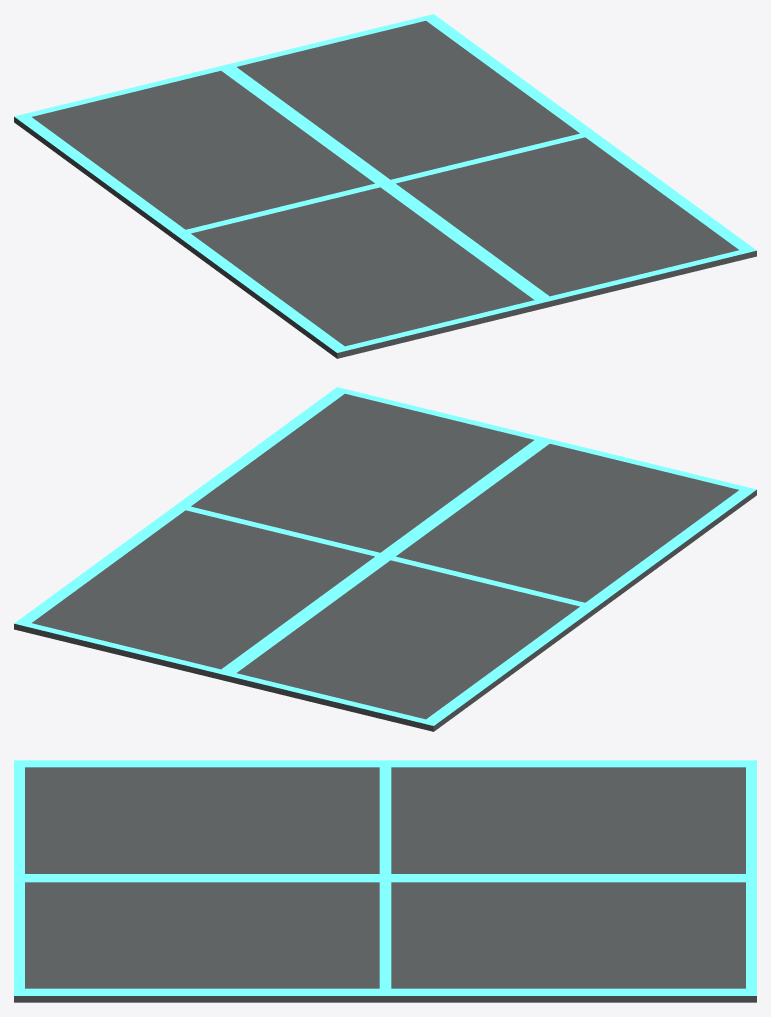
Rendered from Landing_Pad_LODGroup.fbx.
The picture shows the model from 3 angles, top to bottom: view 1: azimuth 30°, elevation 25°; view 2: azimuth 150°, elevation 25°; view 3: azimuth 270°, elevation 25°; orthographic projection. The views are drawn at different scales.
Parts seen in each view (by area): view 1: Landing Pad_LOD0; view 2: Landing Pad_LOD0; view 3: Landing Pad_LOD0.
Boxes of the visible parts, x1=… form: Landing Pad_LOD0: x1=14, y1=14, x2=756, y2=358; Landing Pad_LOD0: x1=14, y1=387, x2=756, y2=731; Landing Pad_LOD0: x1=14, y1=760, x2=756, y2=1002.
Size of what is drawn, in the model's own units: 150 by 2 by 200.
